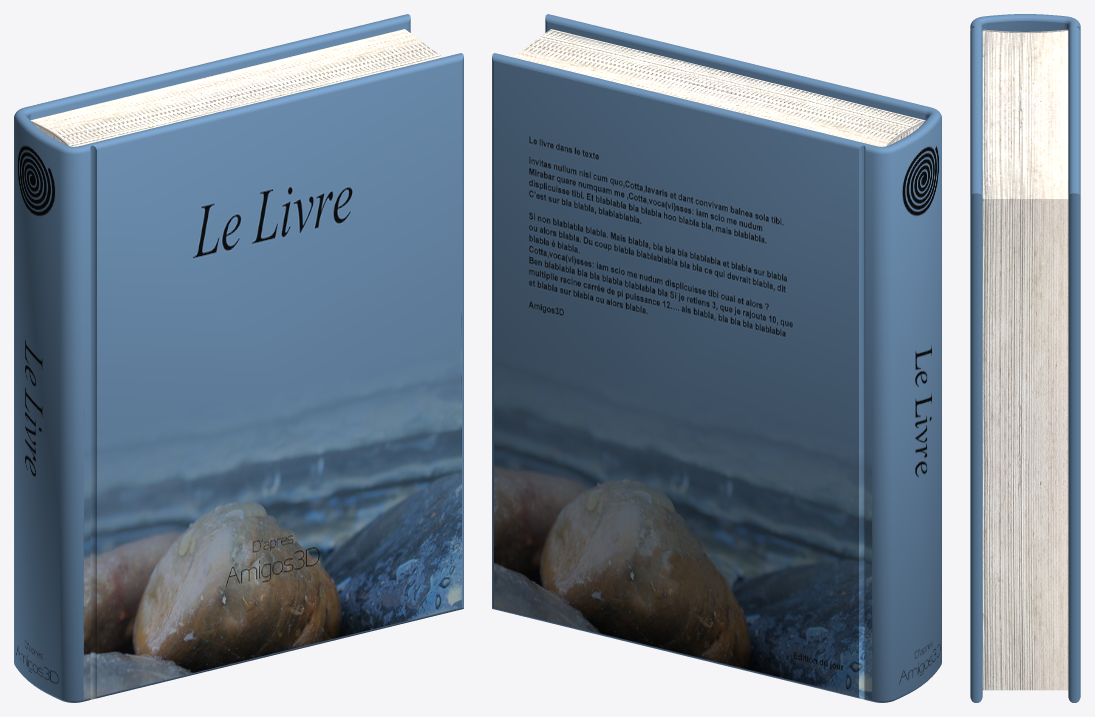
The model's file is book2.glb.
3 views of the same model, side by side, from view 1: azimuth 30°, elevation 25°; view 2: azimuth 150°, elevation 25°; view 3: azimuth 270°, elevation 25° (orthographic). The views are drawn at different scales.
Visible parts, largest first — view 1: Object_7, Object_4, Object_9, Object_3; view 2: Object_6, Object_4, Object_9, Object_3; view 3: Object_8, Object_3, Object_9, Object_2.
Part boxes in pixels (left/top/right/bottom): Object_7: left=83, top=61, right=461, bottom=699; Object_4: left=14, top=117, right=83, bottom=700; Object_9: left=31, top=29, right=442, bottom=146; Object_3: left=14, top=14, right=463, bottom=702; Object_6: left=494, top=61, right=872, bottom=699; Object_4: left=872, top=117, right=941, bottom=700; Object_9: left=513, top=29, right=924, bottom=146; Object_3: left=492, top=14, right=941, bottom=702; Object_8: left=982, top=199, right=1068, bottom=690; Object_3: left=970, top=14, right=1080, bottom=702; Object_9: left=982, top=31, right=1068, bottom=198; Object_2: left=982, top=21, right=1068, bottom=31.
Bounding box in the file's own units: 0.1668 × 0.2188 × 0.0428.
8 materials, 7 textured.
